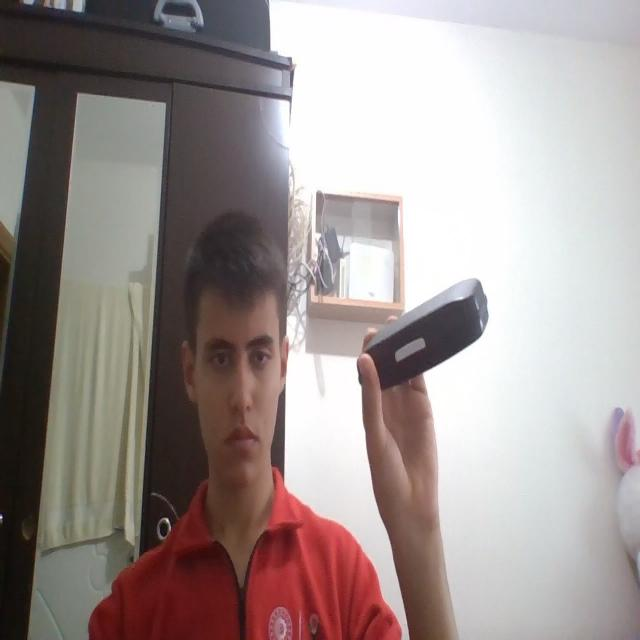glasses-box: (356, 274, 498, 387)
